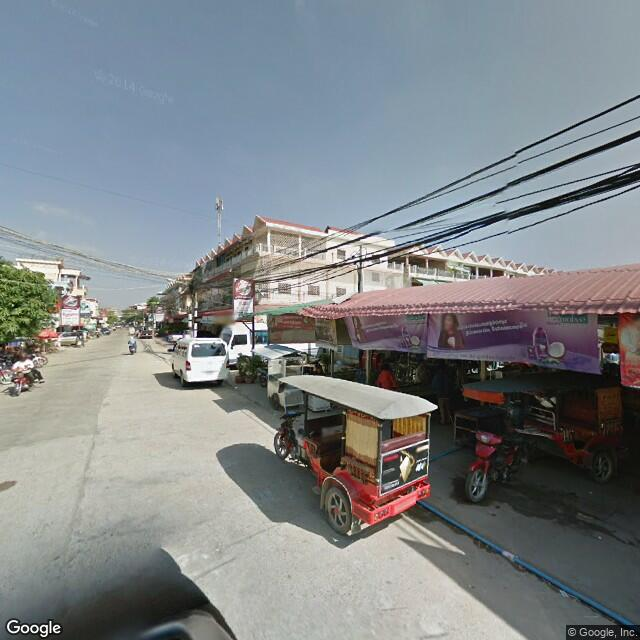litter: (551, 583, 575, 602)
